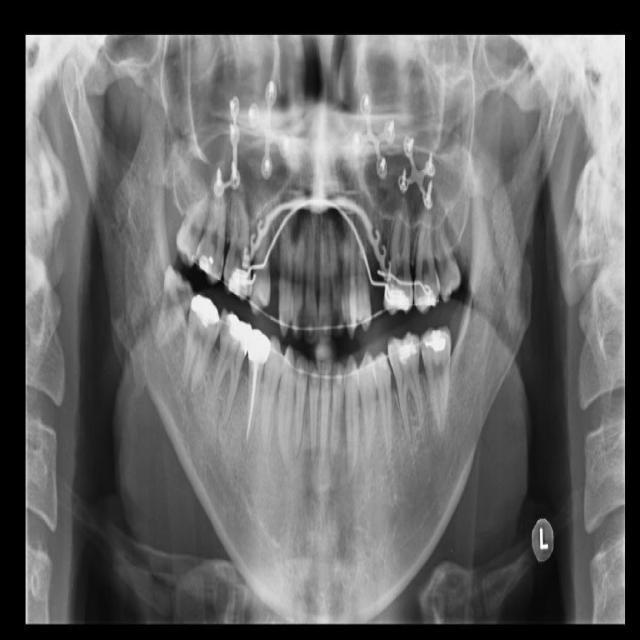Crown: (248, 330, 270, 364)
Filling: (189, 295, 221, 345), (219, 310, 251, 356)
Root Canal Treatment: (247, 364, 257, 441)
impacted tooth: (152, 267, 192, 350)
